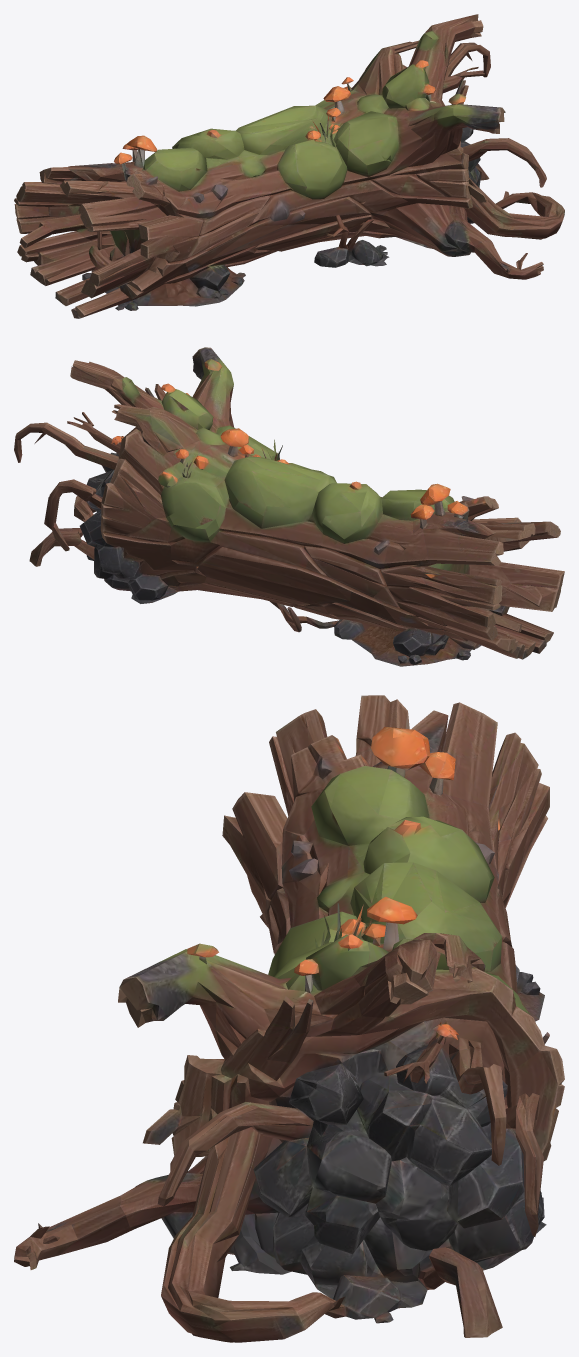
File: fallen_tree.glb
3 renders of one model, top to bottom at view 1: azimuth 30°, elevation 25°; view 2: azimuth 150°, elevation 25°; view 3: azimuth 270°, elevation 25°, orthographic. The views are drawn at different scales.
Bounding box in the file's own units: 1.9 × 0.7181 × 1.
1 material, 1 textured.
